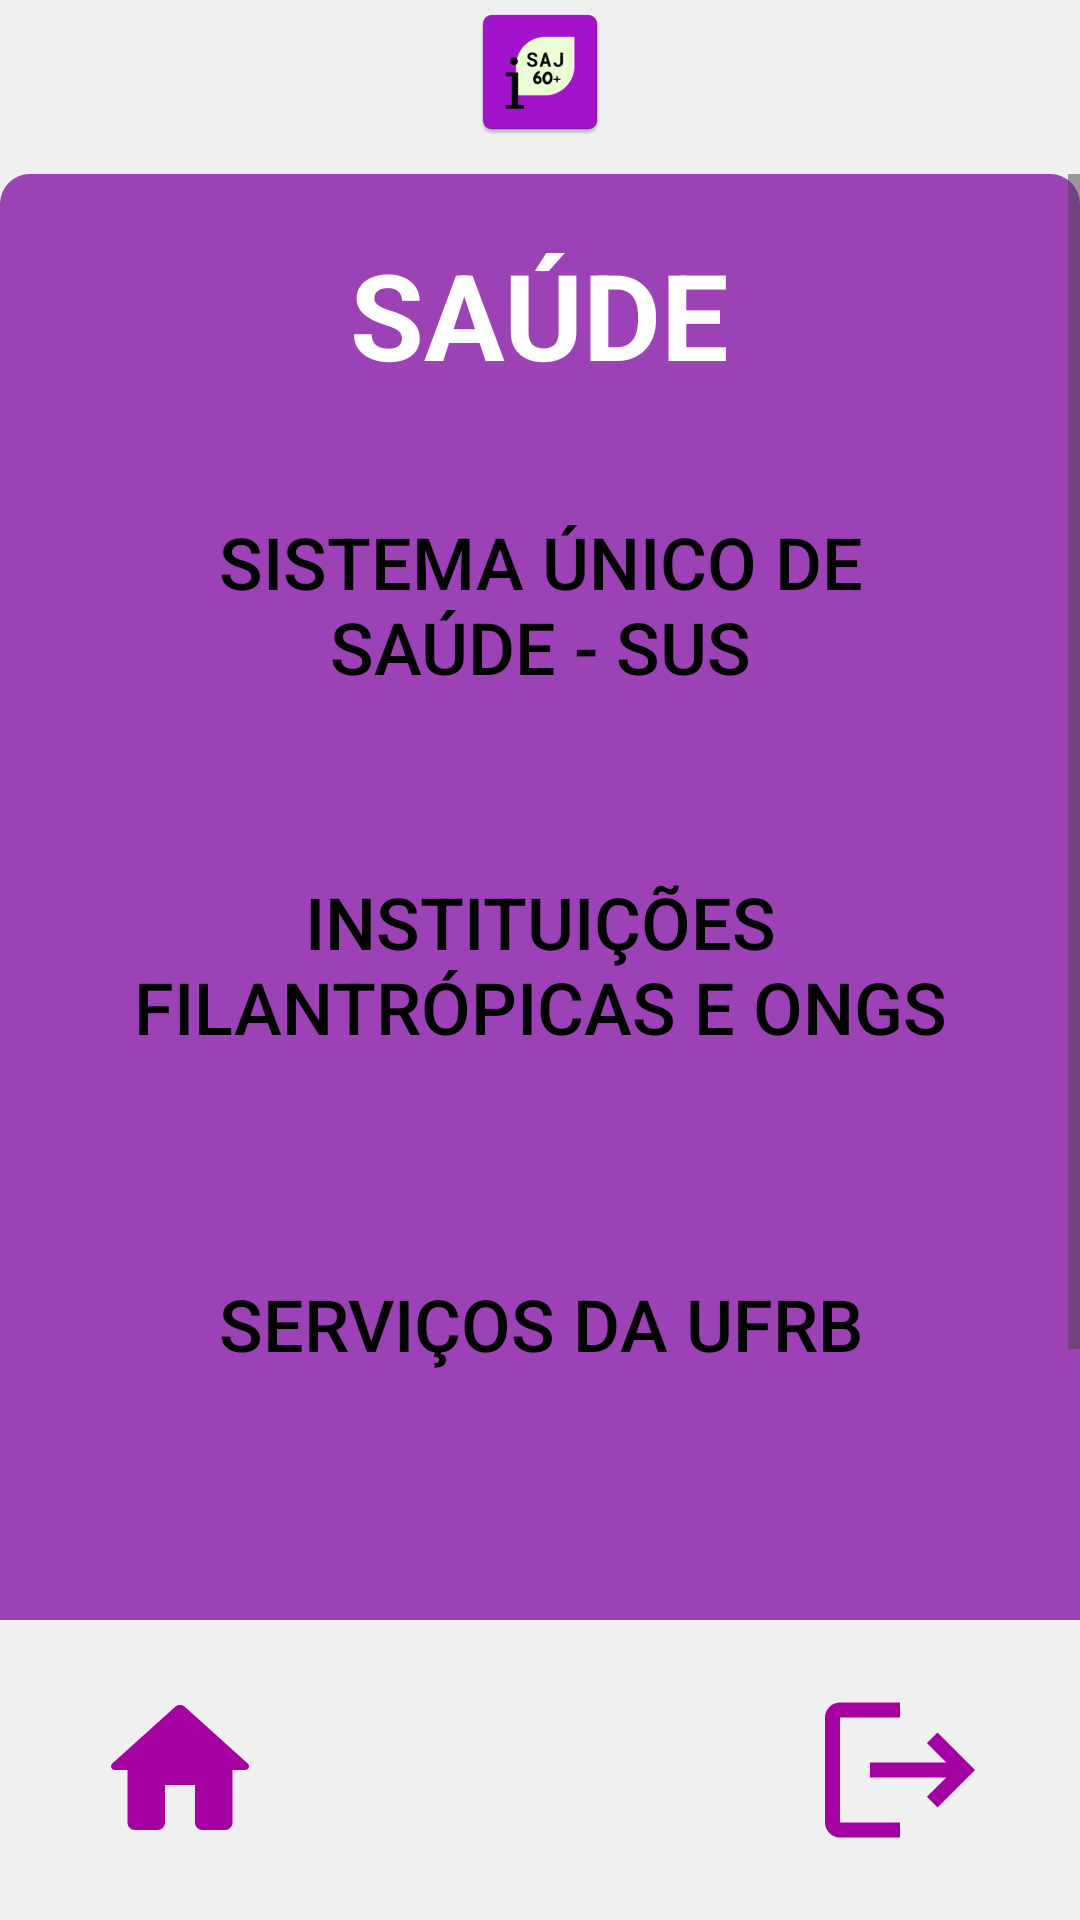

Icons on this 1080*1920 Android screen, each with the point to tap as (x=x, y=y):
home: (x=180, y=1767)
